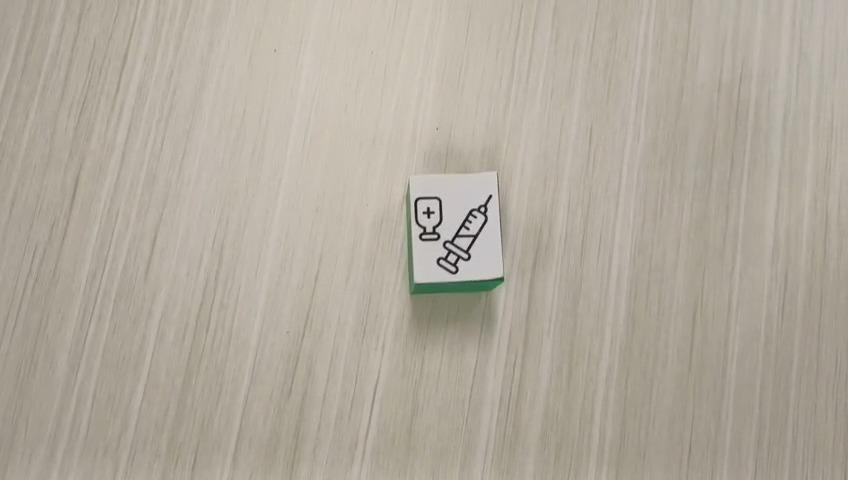antiseptic cream: (404, 169, 505, 294)
